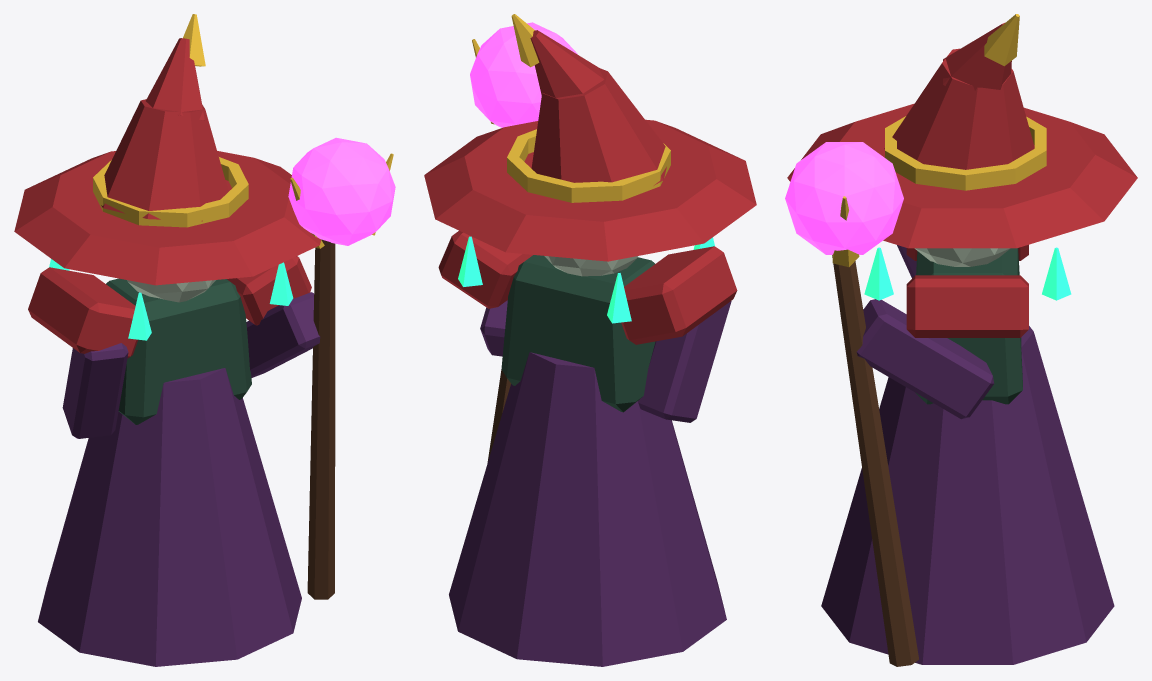
File: EM_Mob_CovenArchWitch.glb
3 renders of one model, left to right at view 1: azimuth 30°, elevation 25°; view 2: azimuth 150°, elevation 25°; view 3: azimuth 270°, elevation 25°, orthographic. The views are drawn at different scales.
Visible parts, largest first — view 1: CovenArchWitch__Body__WitchPlum, CovenArchWitch__Head__WitchCrimson, CovenArchWitch__Body__WitchCloak, CovenArchWitch__Body__WitchCrimson, CovenArchWitch__Staff__HexGlow, CovenArchWitch__Staff__StaffWood, CovenArchWitch__Head__GoldMetal, CovenArchWitch__Staff__WitchPlum, CovenArchWitch__Orbit__JadeGlow, CovenArchWitch__Head__WitchSkin; view 2: CovenArchWitch__Body__WitchPlum, CovenArchWitch__Head__WitchCrimson, CovenArchWitch__Body__WitchCloak, CovenArchWitch__Body__WitchCrimson, CovenArchWitch__Staff__HexGlow, CovenArchWitch__Head__GoldMetal, CovenArchWitch__Orbit__JadeGlow, CovenArchWitch__Head__WitchSkin, CovenArchWitch__Staff__WitchPlum, CovenArchWitch__Staff__StaffWood; view 3: CovenArchWitch__Body__WitchPlum, CovenArchWitch__Head__WitchCrimson, CovenArchWitch__Staff__StaffWood, CovenArchWitch__Staff__HexGlow, CovenArchWitch__Staff__WitchPlum, CovenArchWitch__Body__WitchCrimson, CovenArchWitch__Head__GoldMetal, CovenArchWitch__Body__WitchCloak, CovenArchWitch__Orbit__JadeGlow, CovenArchWitch__Head__WitchSkin, CovenArchWitch__Staff__GoldMetal.
Boxes of the visible parts, left/top/right/bottom form: CovenArchWitch__Body__WitchPlum: left=38, top=343, right=301, bottom=666; CovenArchWitch__Head__WitchCrimson: left=14, top=38, right=321, bottom=285; CovenArchWitch__Body__WitchCloak: left=106, top=278, right=251, bottom=424; CovenArchWitch__Body__WitchCrimson: left=28, top=256, right=311, bottom=358; CovenArchWitch__Staff__HexGlow: left=288, top=137, right=395, bottom=245; CovenArchWitch__Staff__StaffWood: left=307, top=239, right=335, bottom=599; CovenArchWitch__Head__GoldMetal: left=93, top=14, right=248, bottom=227; CovenArchWitch__Staff__WitchPlum: left=246, top=292, right=320, bottom=377; CovenArchWitch__Orbit__JadeGlow: left=49, top=259, right=293, bottom=340; CovenArchWitch__Head__WitchSkin: left=127, top=280, right=215, bottom=302; CovenArchWitch__Body__WitchPlum: left=449, top=301, right=731, bottom=666; CovenArchWitch__Head__WitchCrimson: left=424, top=30, right=756, bottom=261; CovenArchWitch__Body__WitchCloak: left=501, top=255, right=655, bottom=412; CovenArchWitch__Body__WitchCrimson: left=438, top=230, right=737, bottom=344; CovenArchWitch__Staff__HexGlow: left=470, top=22, right=577, bottom=127; CovenArchWitch__Head__GoldMetal: left=507, top=14, right=670, bottom=202; CovenArchWitch__Orbit__JadeGlow: left=458, top=236, right=714, bottom=323; CovenArchWitch__Head__WitchSkin: left=544, top=256, right=637, bottom=276; CovenArchWitch__Staff__WitchPlum: left=480, top=300, right=507, bottom=356; CovenArchWitch__Staff__StaffWood: left=487, top=369, right=510, bottom=462; CovenArchWitch__Body__WitchPlum: left=821, top=245, right=1114, bottom=664; CovenArchWitch__Head__WitchCrimson: left=787, top=23, right=1137, bottom=248; CovenArchWitch__Staff__StaffWood: left=832, top=255, right=918, bottom=666; CovenArchWitch__Staff__HexGlow: left=785, top=142, right=903, bottom=254; CovenArchWitch__Staff__WitchPlum: left=856, top=299, right=994, bottom=419; CovenArchWitch__Body__WitchCrimson: left=906, top=244, right=1028, bottom=337; CovenArchWitch__Head__GoldMetal: left=885, top=14, right=1046, bottom=190; CovenArchWitch__Body__WitchCloak: left=915, top=248, right=1022, bottom=404; CovenArchWitch__Orbit__JadeGlow: left=864, top=247, right=1071, bottom=300; CovenArchWitch__Head__WitchSkin: left=914, top=248, right=1010, bottom=266; CovenArchWitch__Staff__GoldMetal: left=832, top=196, right=859, bottom=267.
Bounding box in the file's own units: 3.37 × 6.1 × 3.16.
